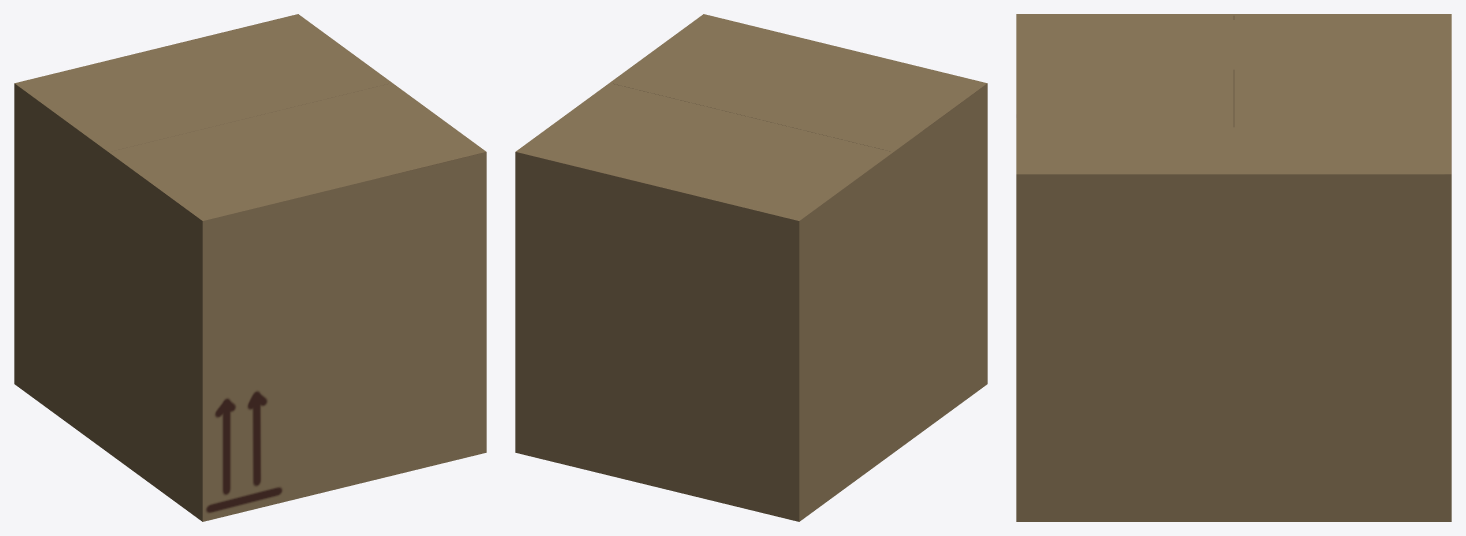
File: boxes.fbx
3 views of the same model, side by side, from view 1: azimuth 30°, elevation 25°; view 2: azimuth 150°, elevation 25°; view 3: azimuth 270°, elevation 25° (orthographic). The views are drawn at different scales.
Parts seen in each view (by area): view 1: Cube; view 2: Cube; view 3: Cube.
Boxes of the visible parts, left/top/right/bottom form: Cube: left=14, top=14, right=486, bottom=521; Cube: left=515, top=14, right=987, bottom=521; Cube: left=1016, top=14, right=1451, bottom=521.
Size of the model in its own units: 200 by 203 by 230.
